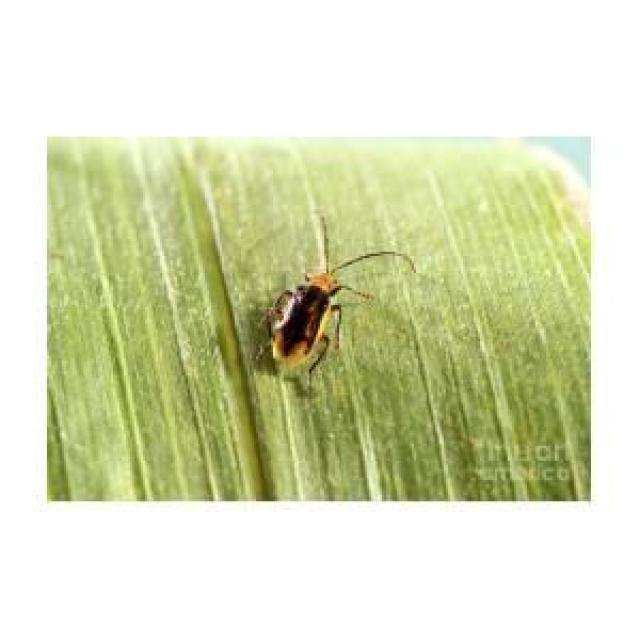trips: (254, 214, 414, 396)
